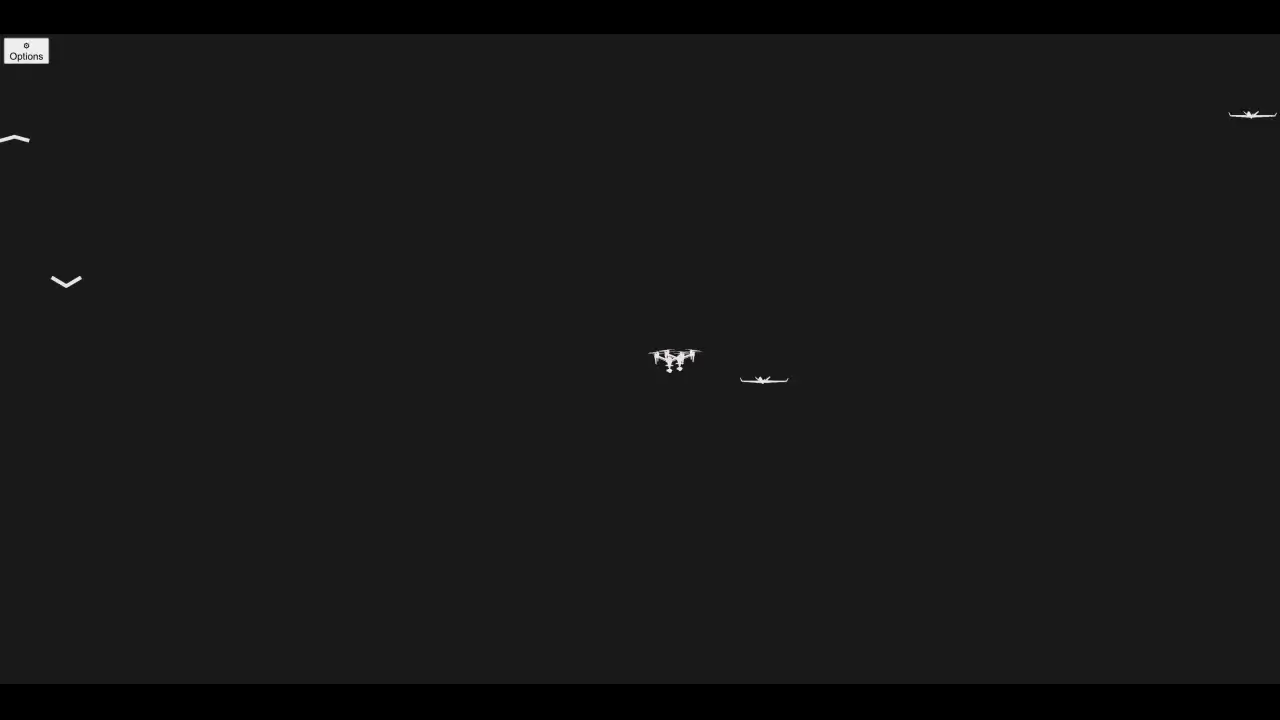Bird: (39, 268, 91, 309), (0, 120, 37, 156)
Drone: (732, 361, 799, 405), (1222, 92, 1277, 138)
Quadcopter: (634, 340, 695, 385), (656, 336, 718, 378)
